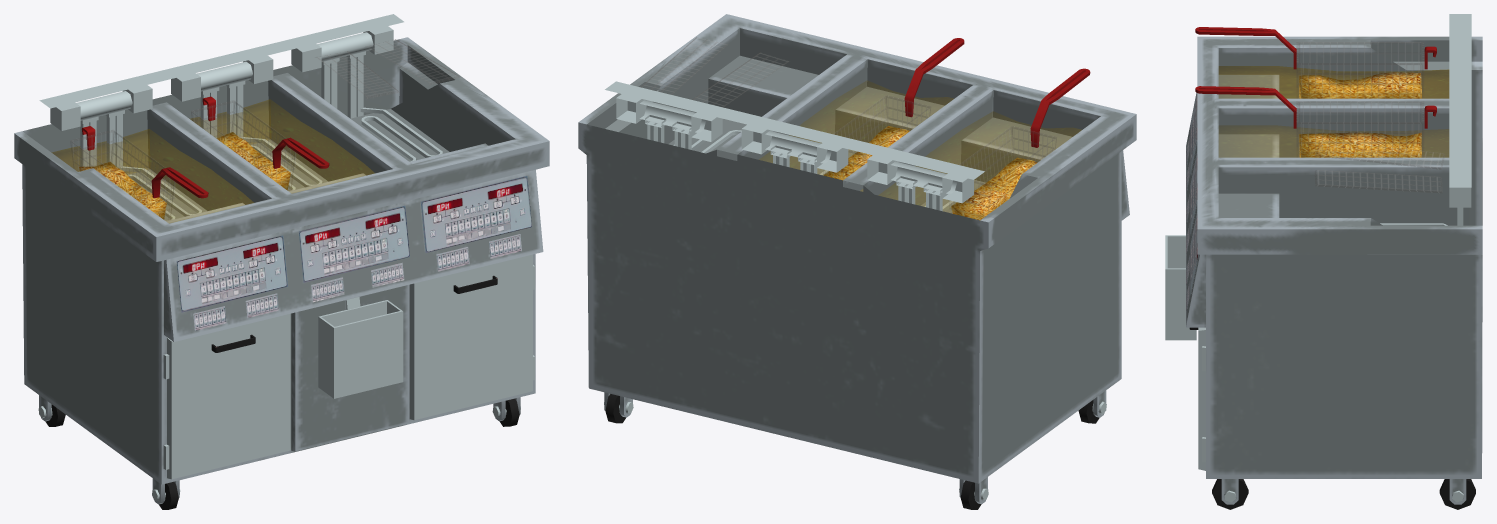
The model's file is fryer.glb.
3 renders of one model, left to right at view 1: azimuth 30°, elevation 25°; view 2: azimuth 150°, elevation 25°; view 3: azimuth 270°, elevation 25°, orthographic. The views are drawn at different scales.
Parts seen in each view (by area): view 1: 5_low_frtr_0, olive-oil.001_olive-oil_0, olive-oil_olive-oil_0, grid_window_metal_iron.003_krznk_0, grid_window_metal_iron.004_krznk_0, object 8, object 9, object 11, object 10; view 2: 5_low_frtr_0, olive-oil.001_olive-oil_0, olive-oil_olive-oil_0, object 8, grid_window_metal_iron.003_krznk_0, object 10, object 11, object 9, grid_window_metal_iron.004_krznk_0, grid_window_metal_iron.001_krznk_0; view 3: 5_low_frtr_0, olive-oil_olive-oil_0, olive-oil.001_olive-oil_0, object 9, object 8, grid_window_metal_iron.003_krznk_0, grid_window_metal_iron.004_krznk_0, object 11, object 10, grid_window_metal_iron.002_krznk_0, grid_window_metal_iron.001_krznk_0.
Part boxes in pixels (box(x1,y1,x2,y2)): 5_low_frtr_0: box(14, 14, 549, 509); olive-oil.001_olive-oil_0: box(52, 129, 253, 223); olive-oil_olive-oil_0: box(190, 99, 373, 193); grid_window_metal_iron.003_krznk_0: box(70, 130, 175, 220); grid_window_metal_iron.004_krznk_0: box(191, 100, 296, 190); object 8: box(79, 161, 166, 219); object 9: box(217, 132, 290, 190); object 11: box(202, 96, 329, 168); object 10: box(82, 126, 208, 198); 5_low_frtr_0: box(578, 14, 1136, 509); olive-oil.001_olive-oil_0: box(879, 111, 1080, 219); olive-oil_olive-oil_0: box(759, 81, 953, 191); object 8: box(951, 157, 1036, 220); grid_window_metal_iron.003_krznk_0: box(949, 126, 1056, 216); object 10: box(1030, 68, 1090, 147); object 11: box(904, 38, 964, 117); object 9: box(824, 126, 909, 180); grid_window_metal_iron.004_krznk_0: box(823, 95, 930, 179); grid_window_metal_iron.001_krznk_0: box(641, 37, 727, 94); 5_low_frtr_0: box(1165, 14, 1482, 509); olive-oil_olive-oil_0: box(1219, 125, 1448, 157); olive-oil.001_olive-oil_0: box(1219, 66, 1448, 98); object 9: box(1299, 132, 1421, 157); object 8: box(1299, 72, 1421, 98); grid_window_metal_iron.003_krznk_0: box(1296, 42, 1423, 98); grid_window_metal_iron.004_krznk_0: box(1296, 101, 1423, 157); object 11: box(1195, 86, 1436, 128); object 10: box(1195, 27, 1436, 69); grid_window_metal_iron.002_krznk_0: box(1316, 140, 1444, 169); grid_window_metal_iron.001_krznk_0: box(1315, 170, 1442, 192).
Bounding box in the file's own units: 1.29 × 1.01 × 0.9001.
Materials: 5 (5 with a texture image).
